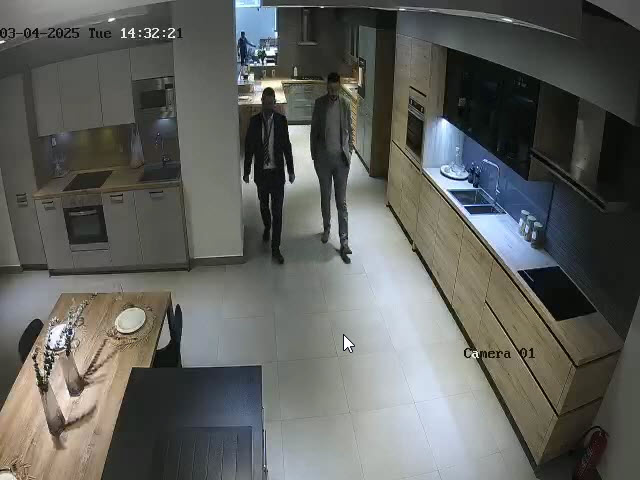employee: (242, 87, 296, 264), (310, 72, 353, 256), (233, 28, 255, 68)
